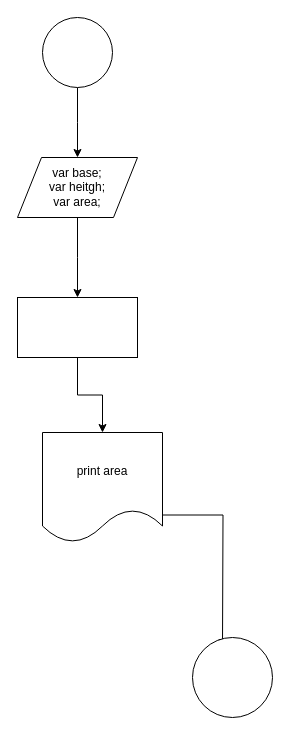
This 290x735 diagram has some shape labels left out. Each missing label, with the centre of its shape:
area=base*heigh: pixel 77 327
start: pixel 77 52
